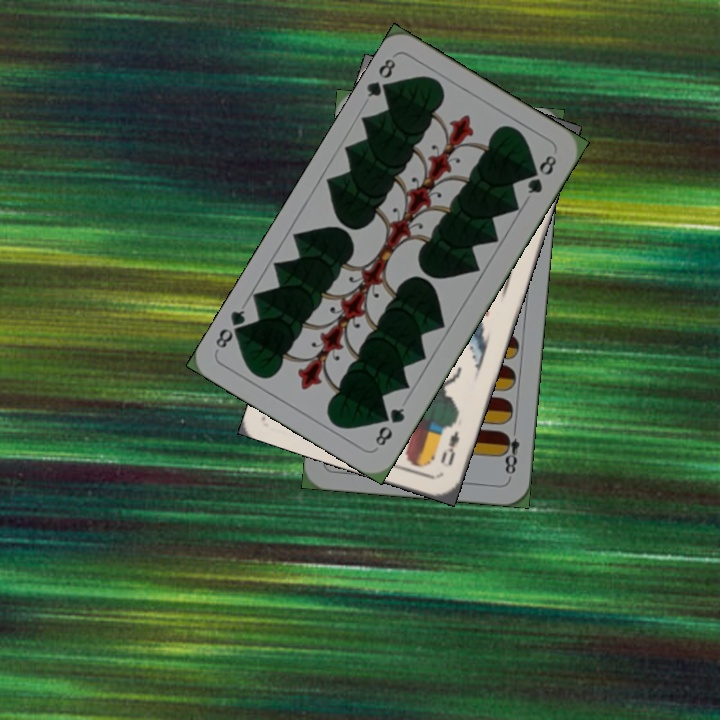E8: (498, 421, 522, 480)
EO: (436, 416, 462, 468)
G8: (362, 54, 399, 101), (371, 403, 408, 449)
